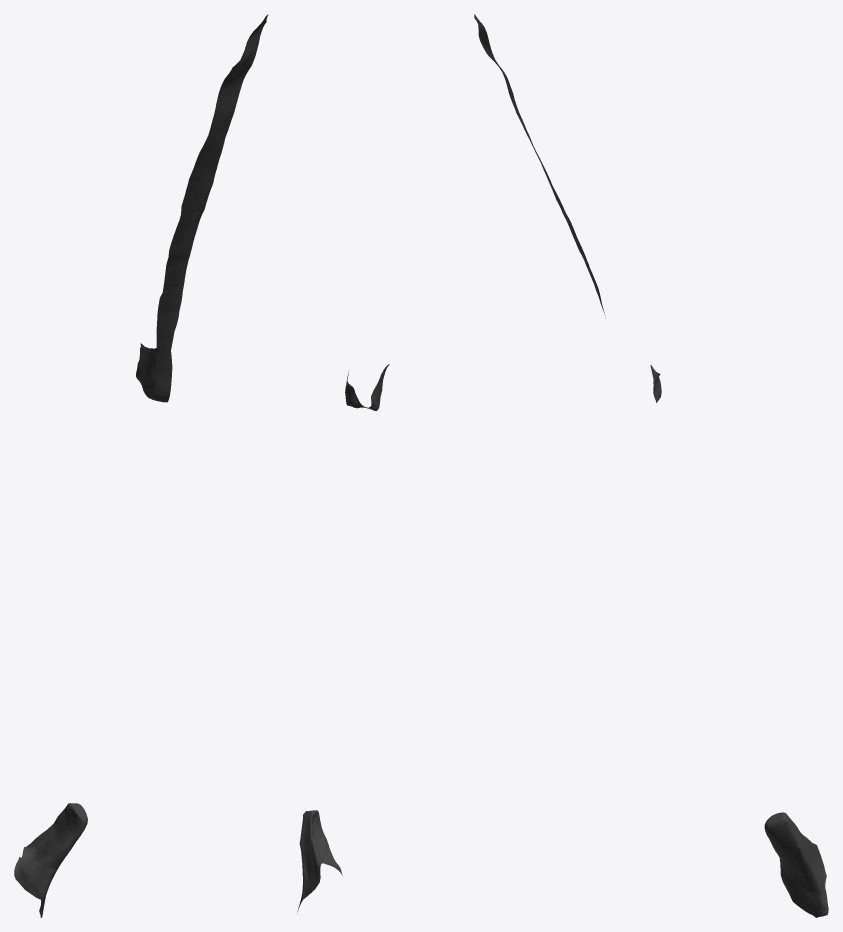
The model's file is eq_dist_limb_DDF_Tendon.glb.
3 views of the same model, side by side, from view 1: azimuth 30°, elevation 25°; view 2: azimuth 150°, elevation 25°; view 3: azimuth 270°, elevation 25° (orthographic). The views are drawn at different scales.
Visible parts, largest first — view 1: eq_dist_limb_DDF_Tendon; view 2: eq_dist_limb_DDF_Tendon; view 3: eq_dist_limb_DDF_Tendon.
Boxes of the visible parts, <box> form: eq_dist_limb_DDF_Tendon: <box>14,14,268,917</box>; eq_dist_limb_DDF_Tendon: <box>297,364,389,913</box>; eq_dist_limb_DDF_Tendon: <box>474,14,828,917</box>.
Size of the model in its own units: 0.00453 by 0.0571 by 0.02.
Materials: 1 (1 with a texture image).
